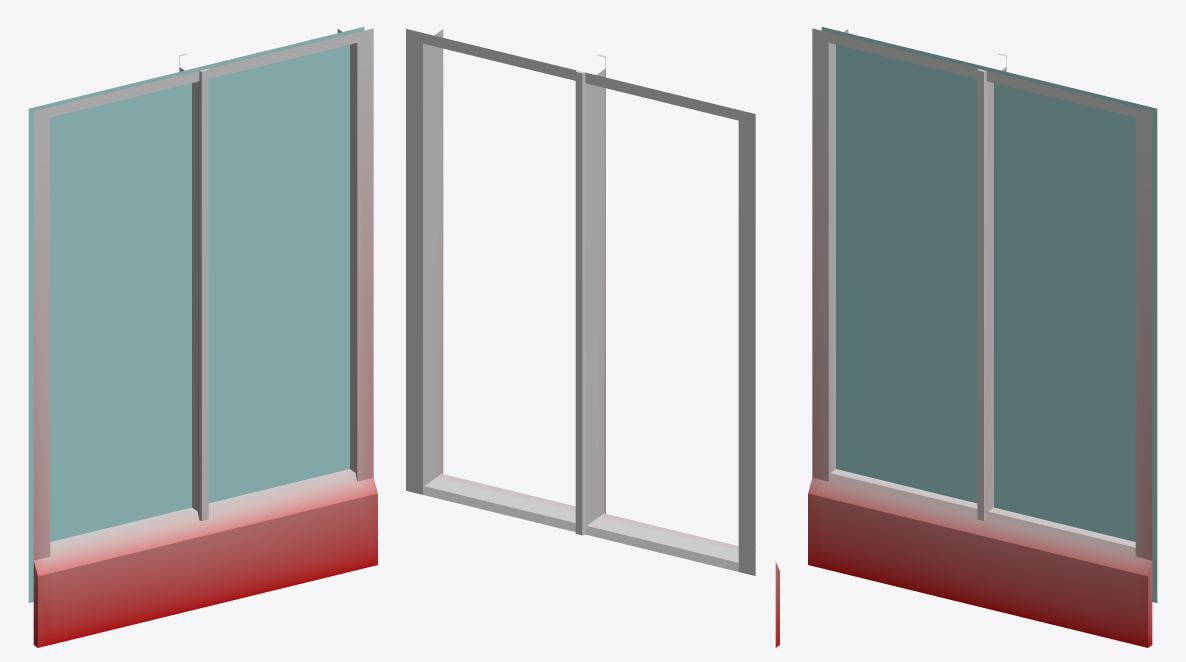
The model's file is Metal_FirstFloor_Window.gltf.
The picture shows the model from 3 angles, left to right: view 1: azimuth 30°, elevation 25°; view 2: azimuth 150°, elevation 25°; view 3: azimuth 330°, elevation 25°; orthographic projection. The views are drawn at different scales.
Visible parts, largest first — view 1: Metal_FirstFloor_Window; view 2: Metal_FirstFloor_Window; view 3: Metal_FirstFloor_Window.
Boxes of the visible parts, x1,y1,x2,y2 form: Metal_FirstFloor_Window: (28, 27, 377, 647); Metal_FirstFloor_Window: (406, 29, 779, 647); Metal_FirstFloor_Window: (808, 27, 1157, 647).
Bounding box in the file's own units: 2 × 3 × 0.2588.
